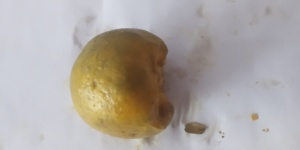BAD: (69, 27, 174, 141)
